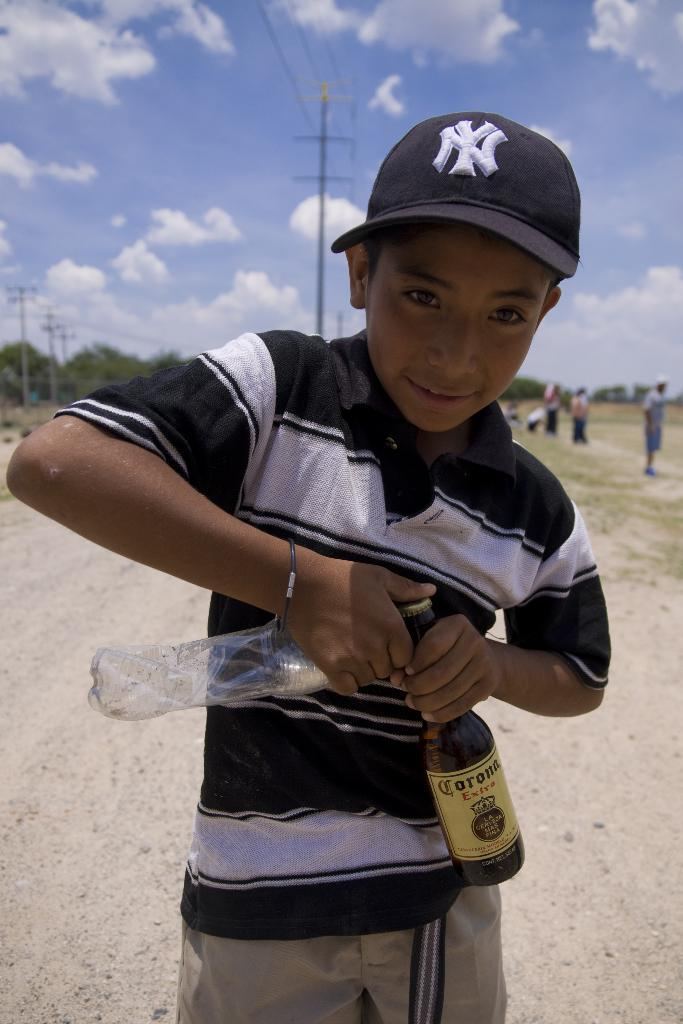Hat: (330, 108, 580, 278)
